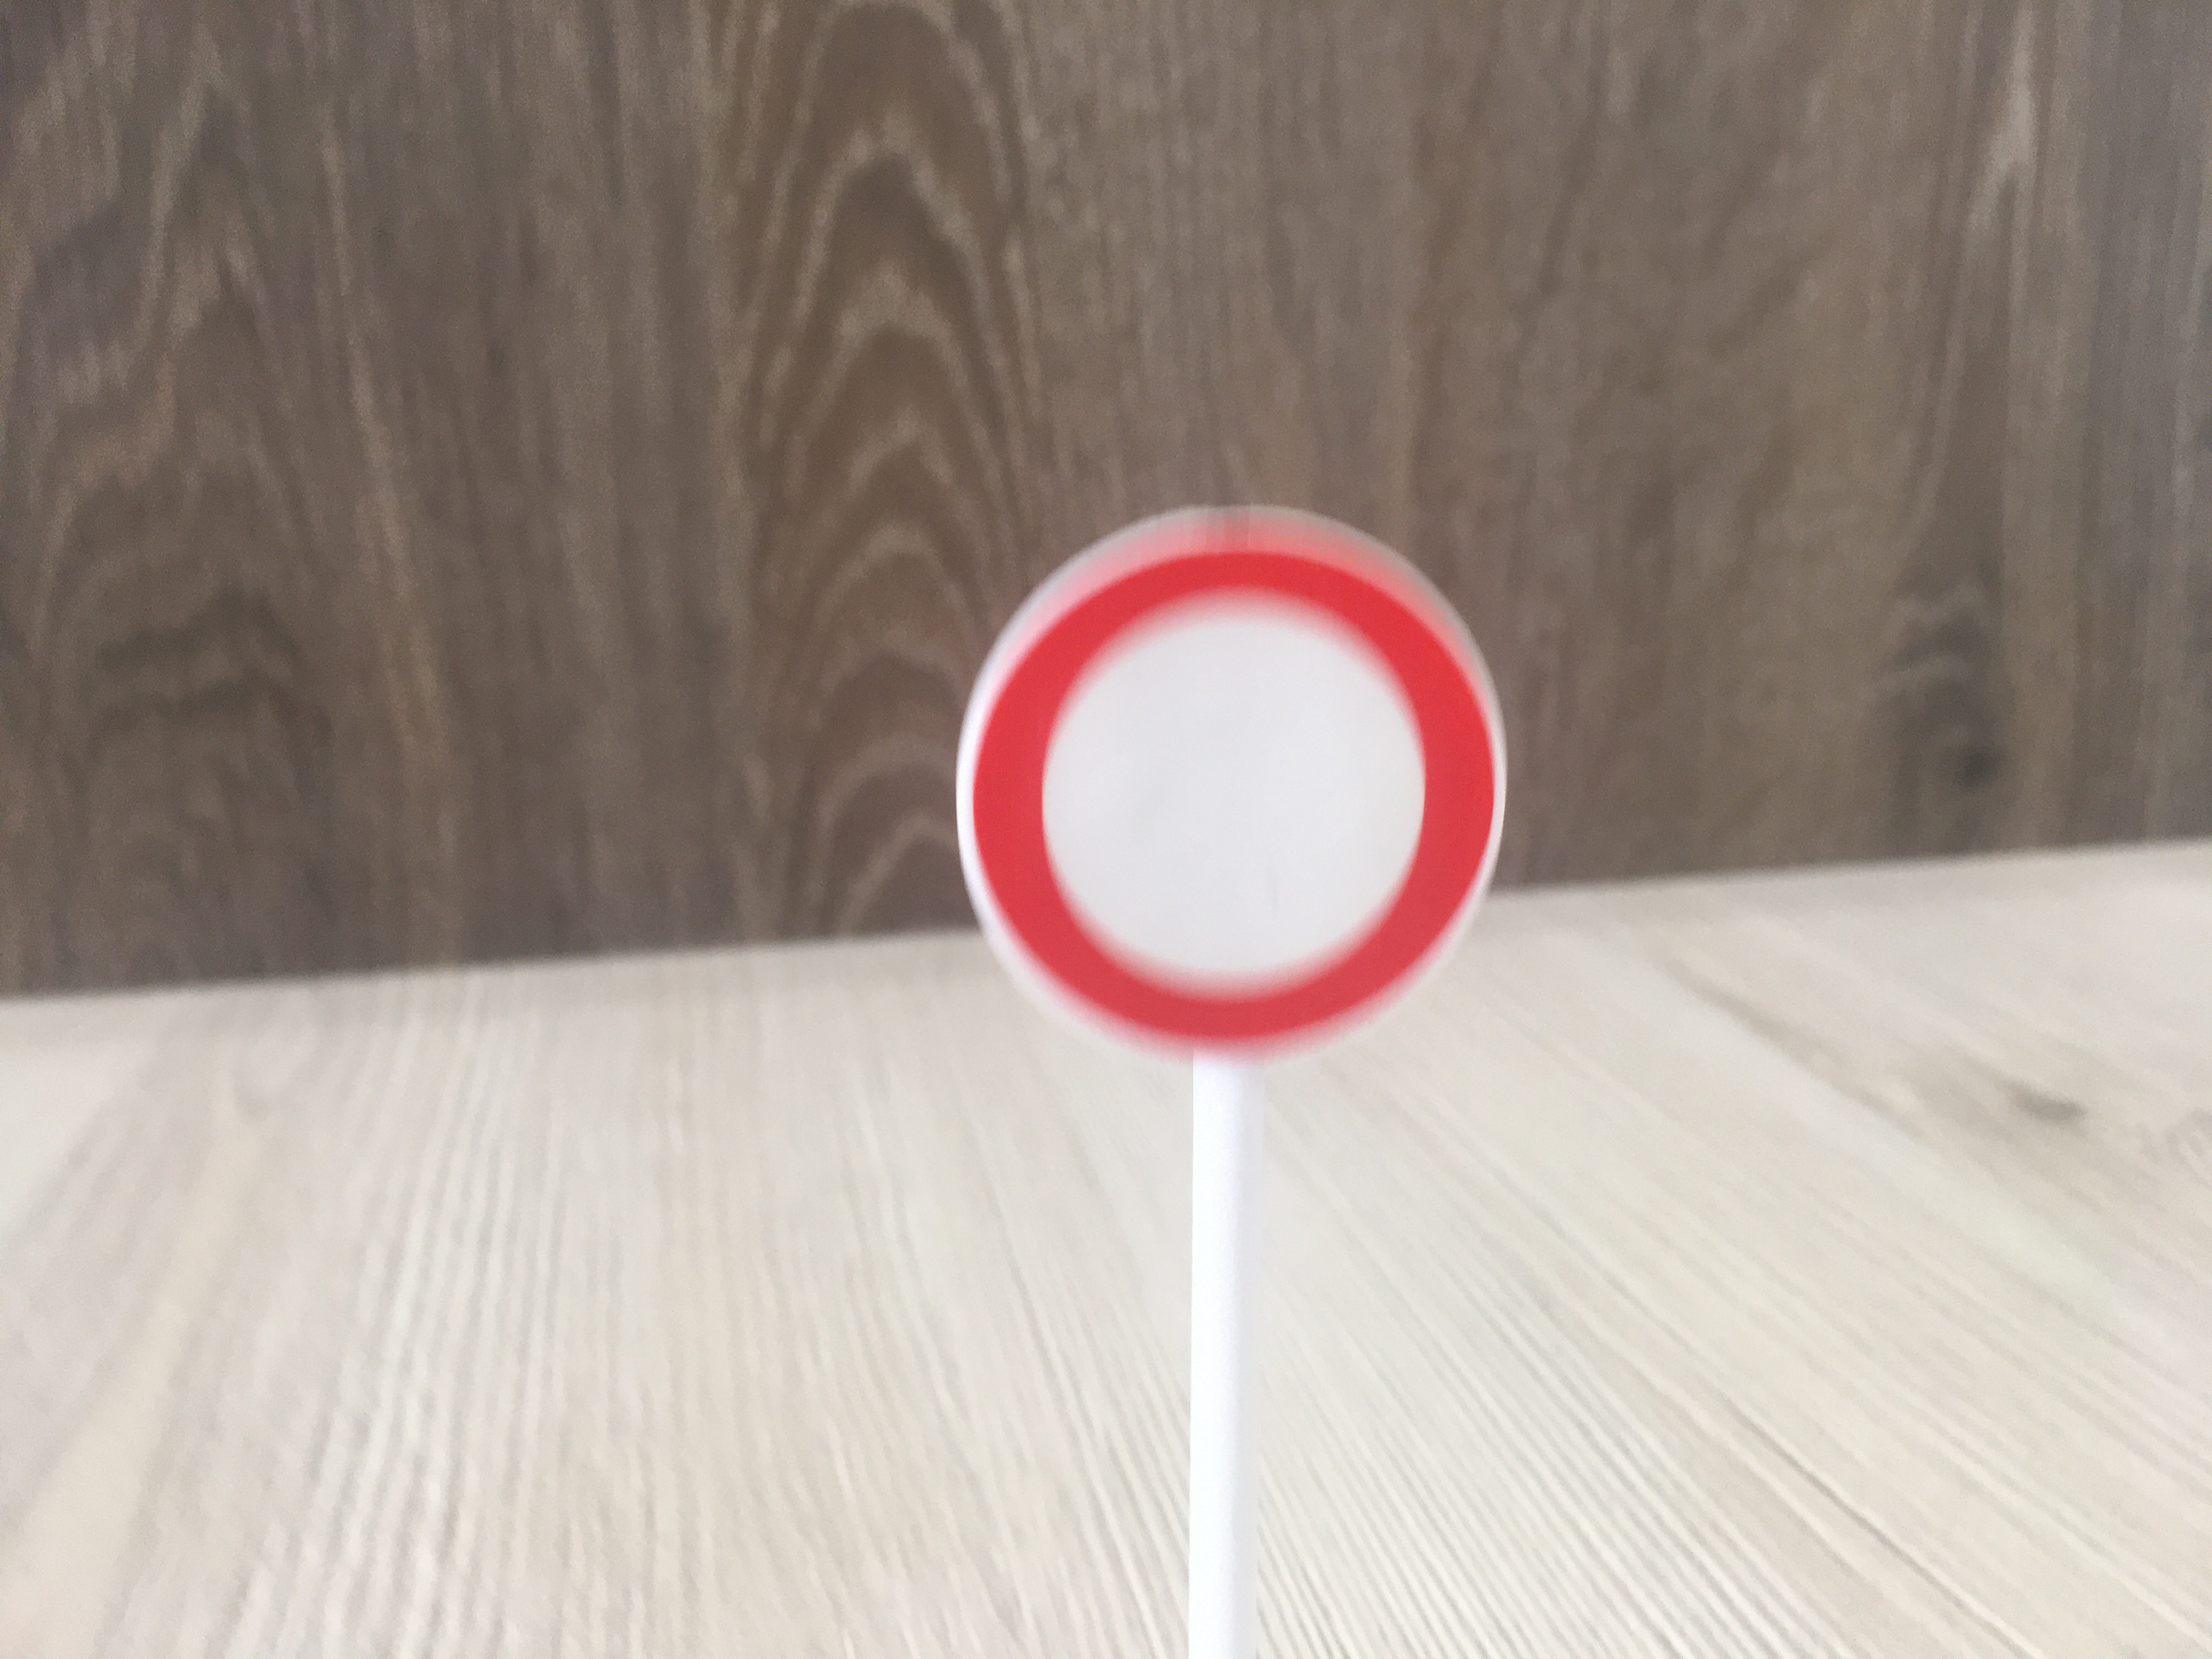noDrive: (956, 505, 1512, 1082)
